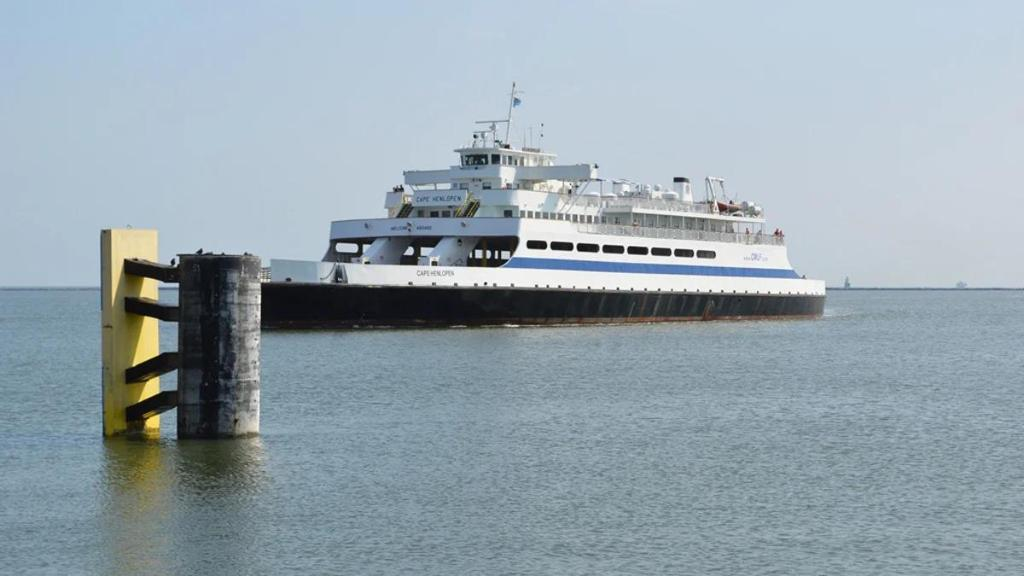PassengerShip: (262, 108, 838, 344)
